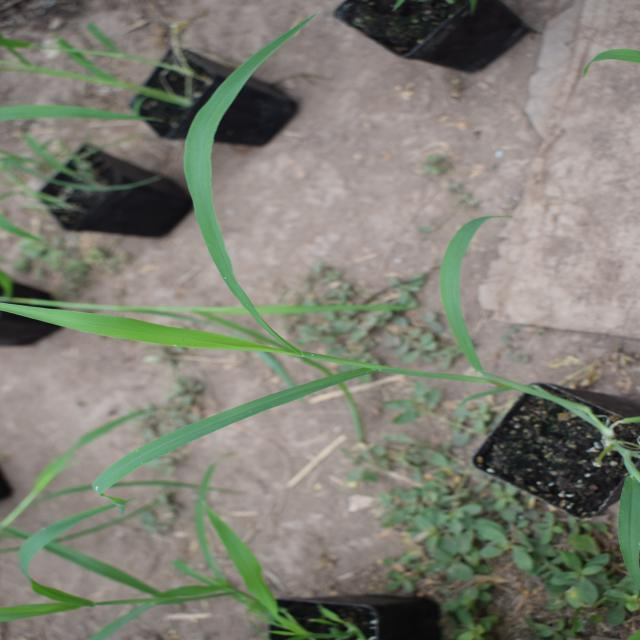crabgrass: (176, 0, 557, 532)
